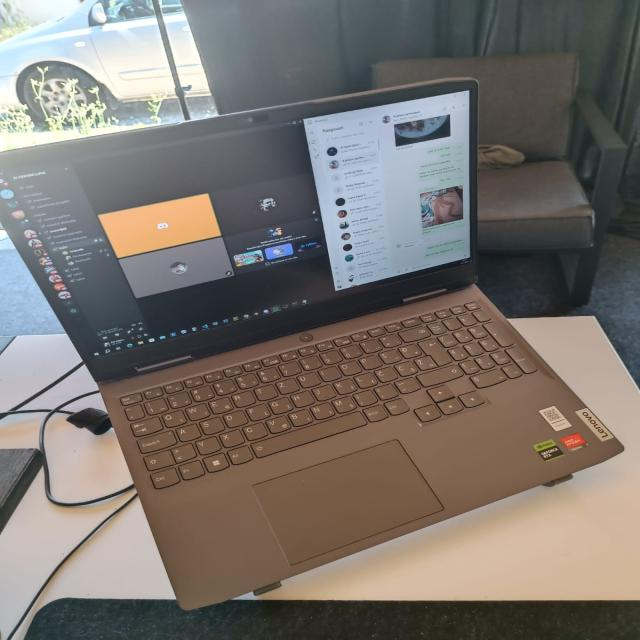Laptops_bbox: (7, 72, 631, 628)
